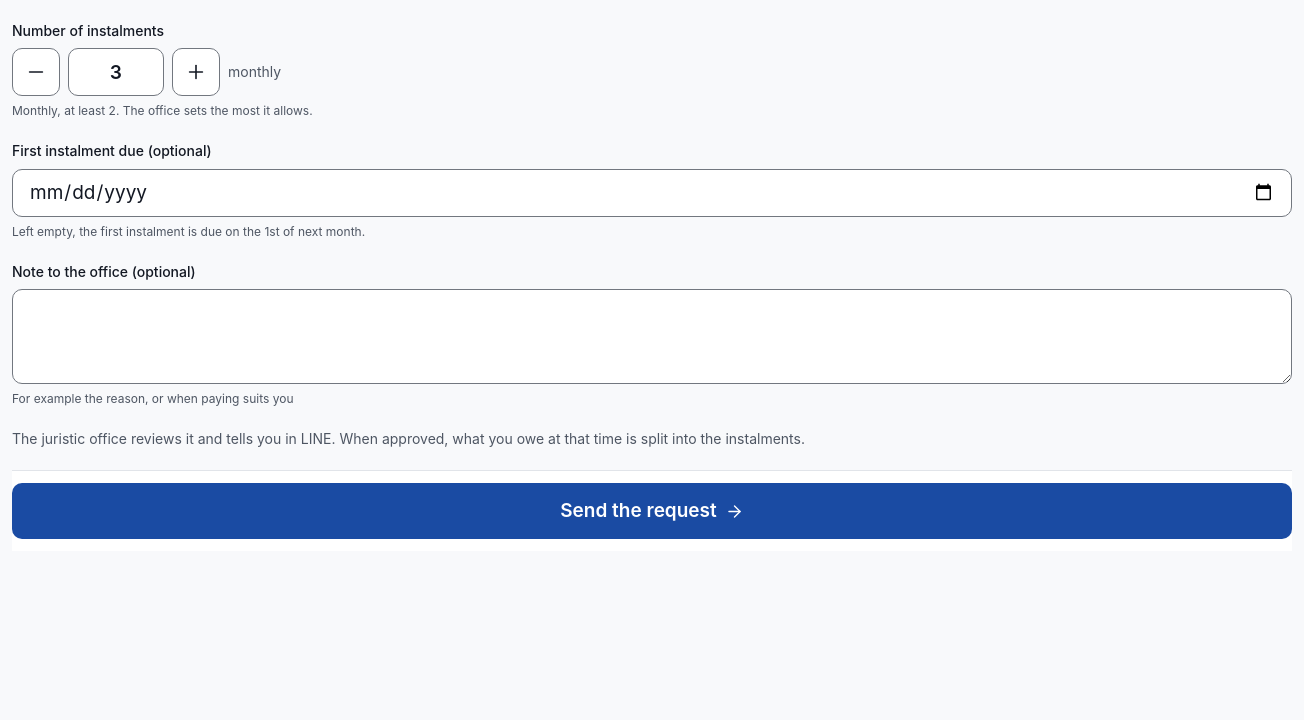
Test case: PlanRequestForm › points to the plan already open
What coordinates should you click on to do the following:
click the button with test id "plan-submit"
I would click on:
 (652, 511)
Its box is [12,483,1292,539].
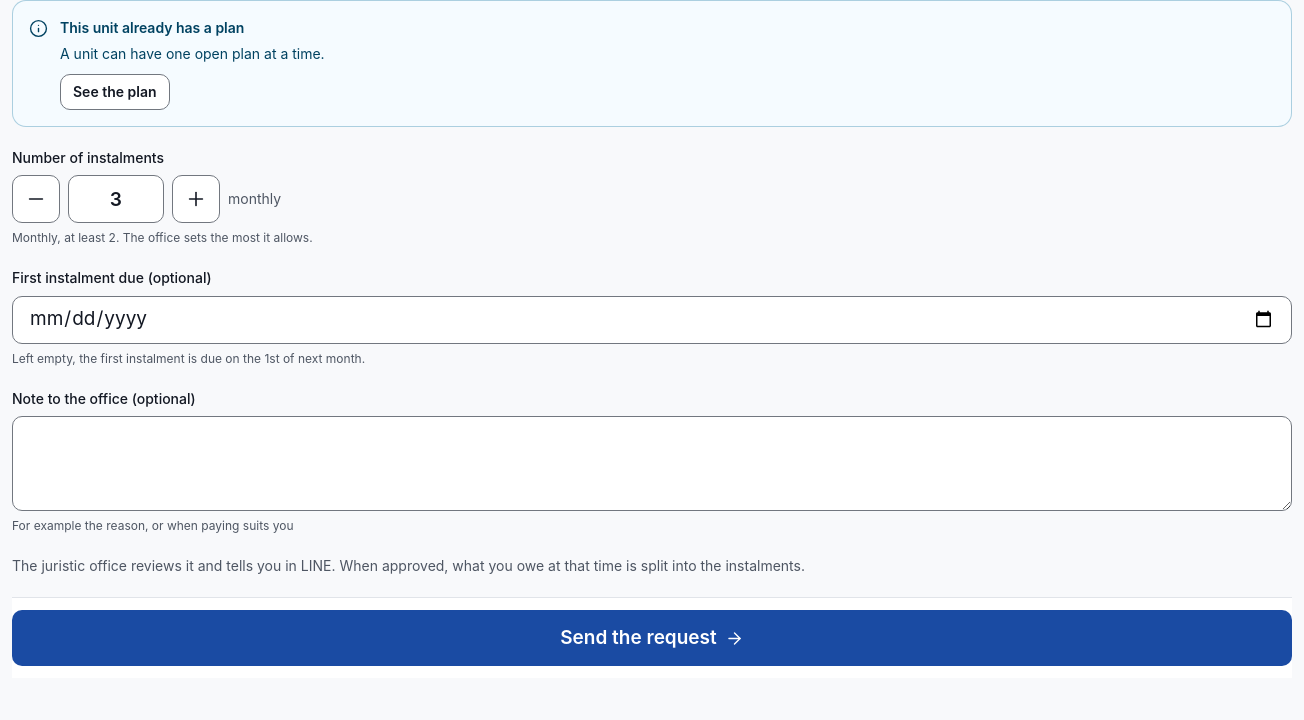
Expected: the text "This unit already has a plan" is shown, [60,19,244,36]
